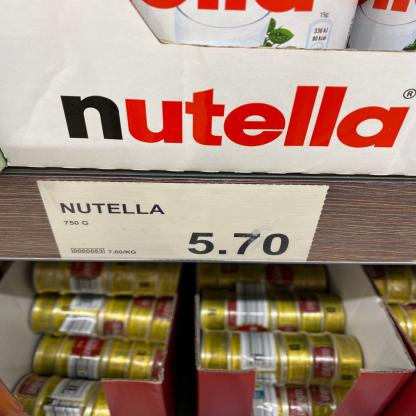prtg: (39, 183, 330, 263)
